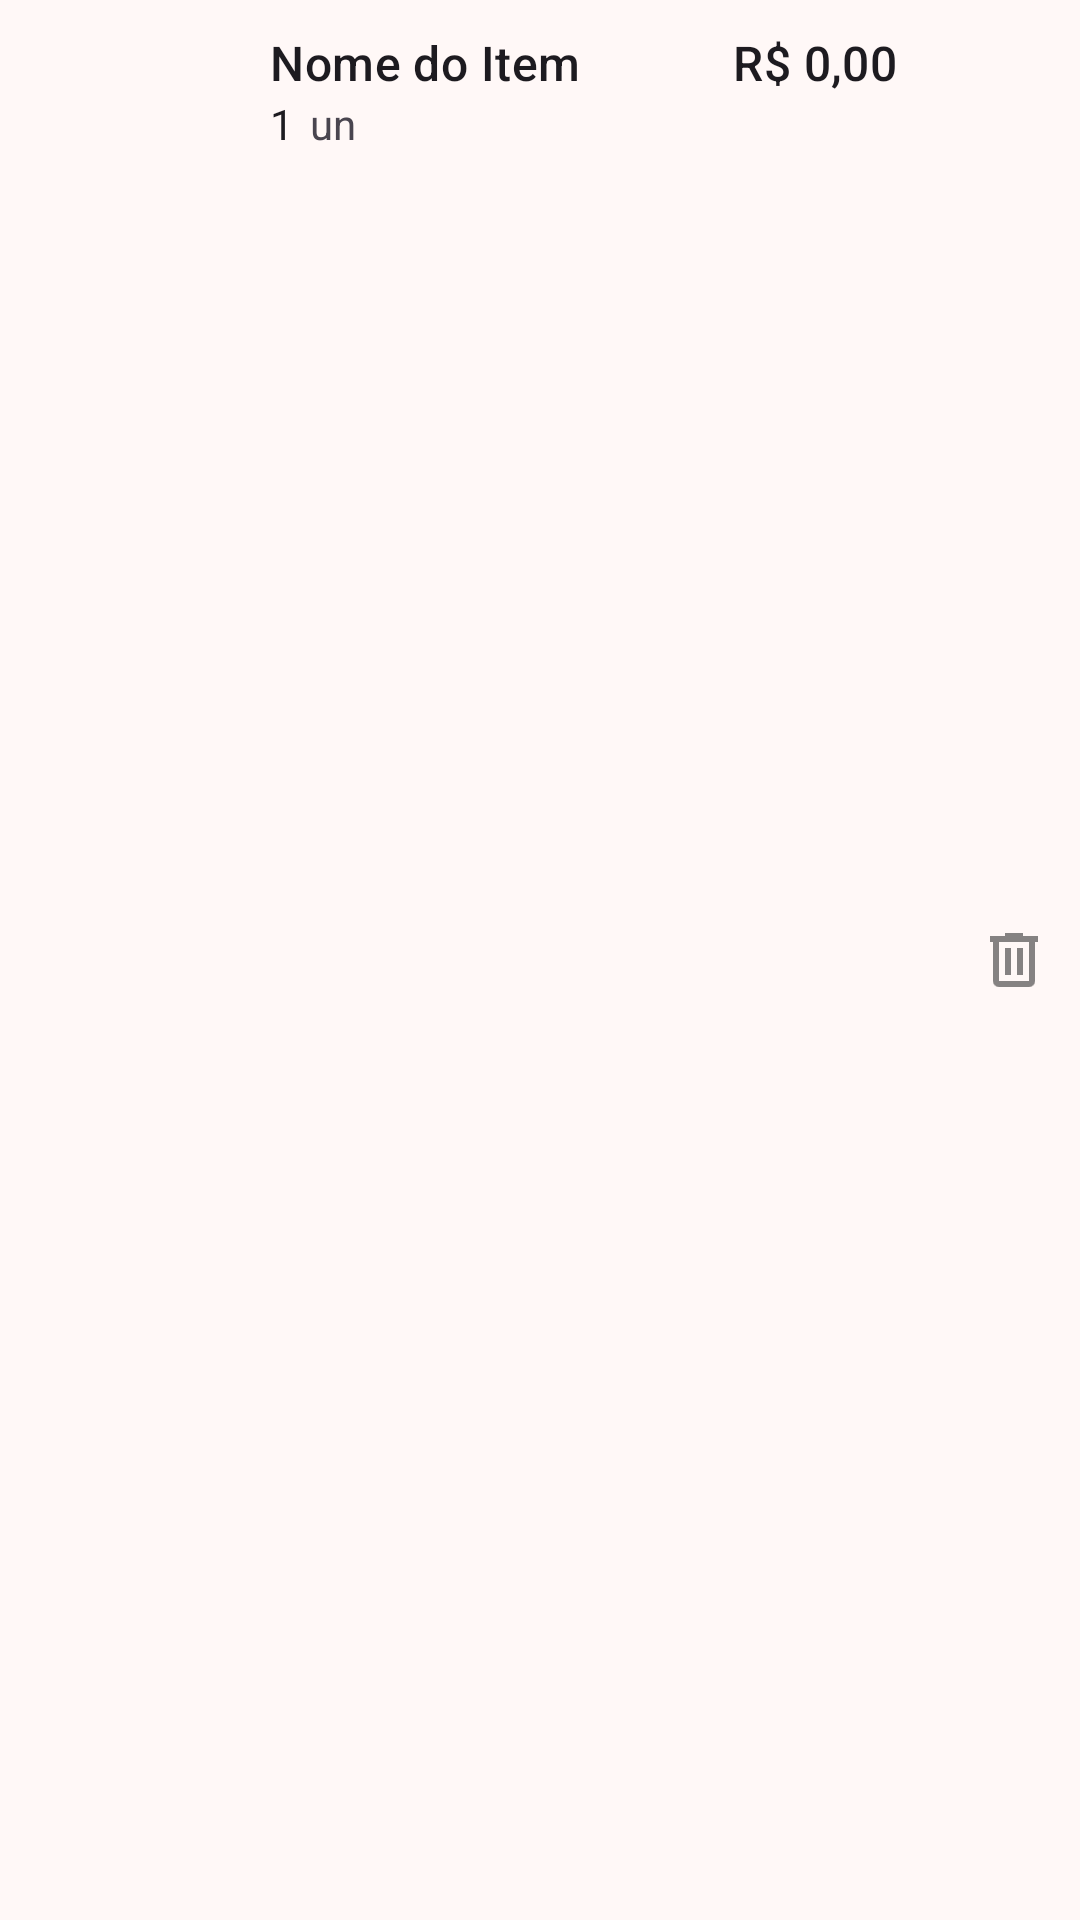

Where to tap for icons on this 1080x1920 app screen, as [x,y]:
lixeira: [1014,960]
